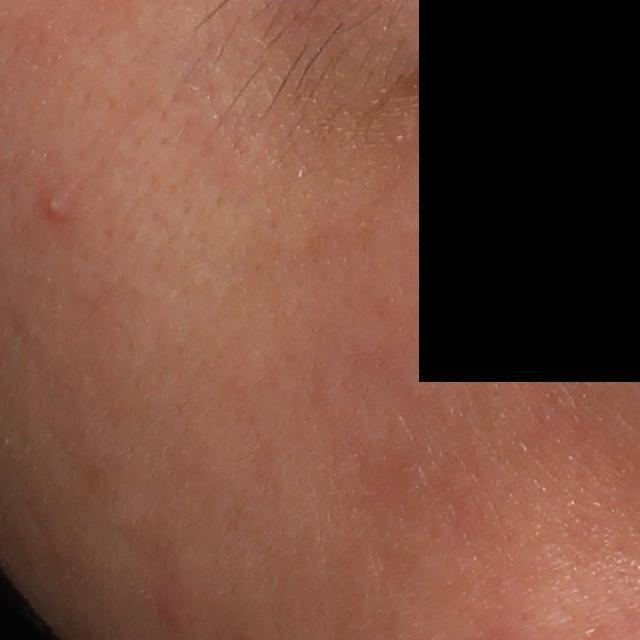papule: (40, 193, 70, 218)
